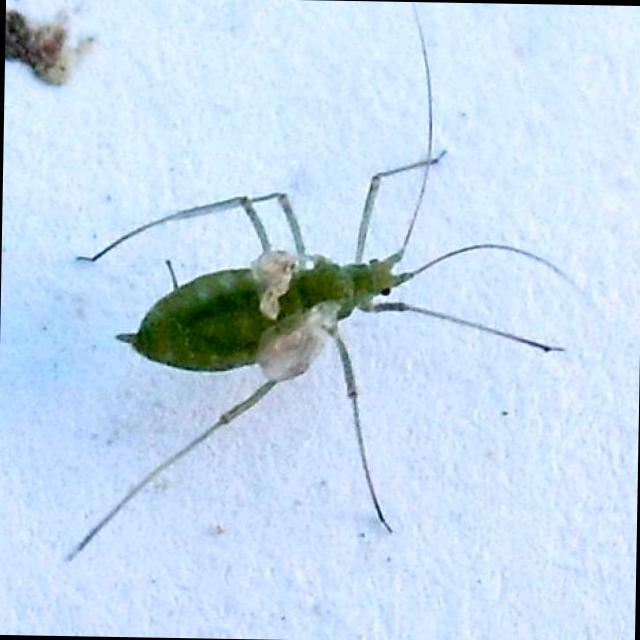aphid: (116, 175, 520, 494)
